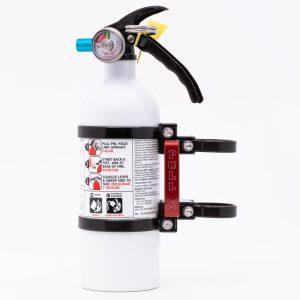Fire Extinguisher: (65, 1, 199, 299)
